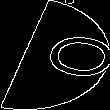O_W: (8, 27, 102, 83)
